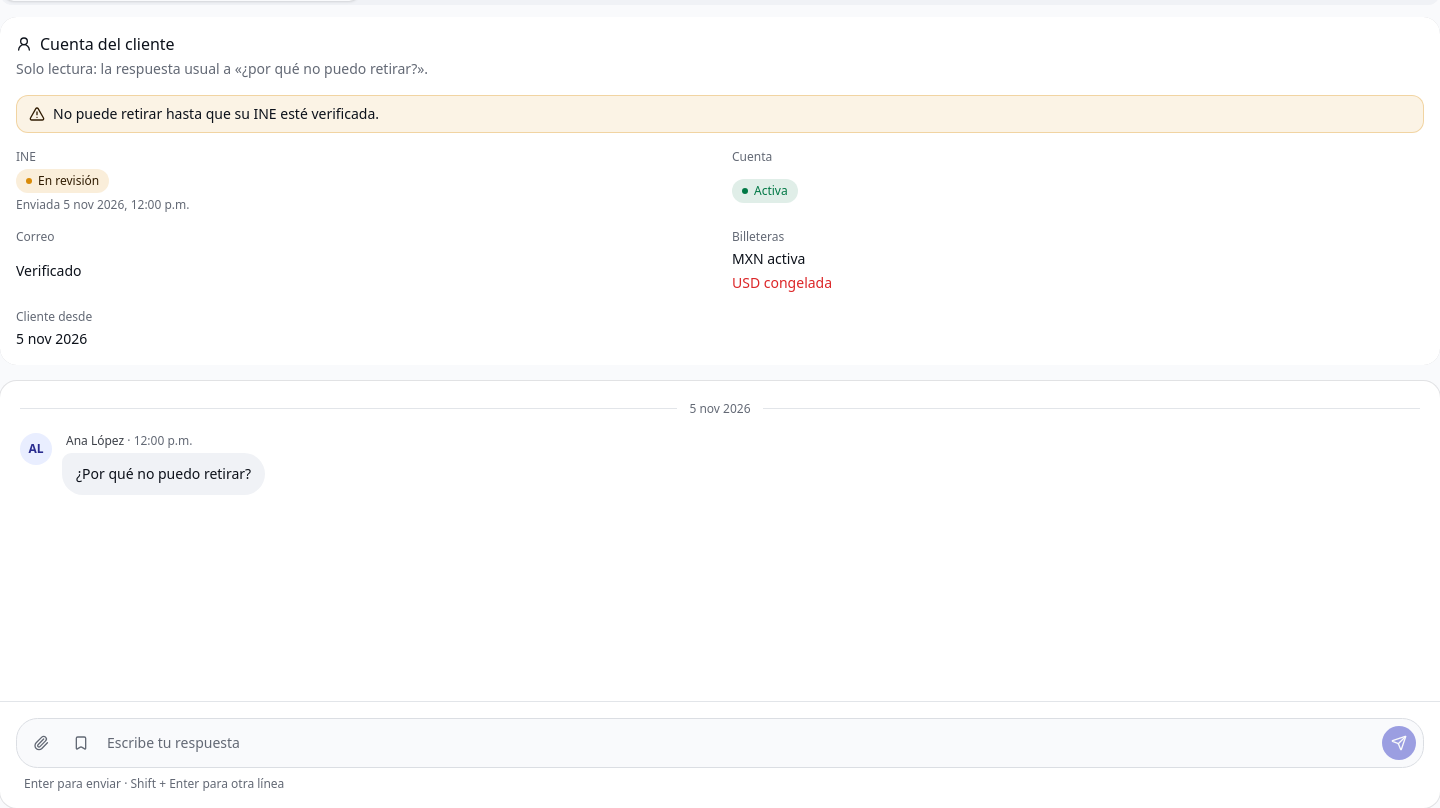
Test: saved replies › writes one in the message, where it can still be changed
(page scrolled)
Step 1. Click the button named "Respuestas guardadas" → [81, 742], box [63,724,99,760]
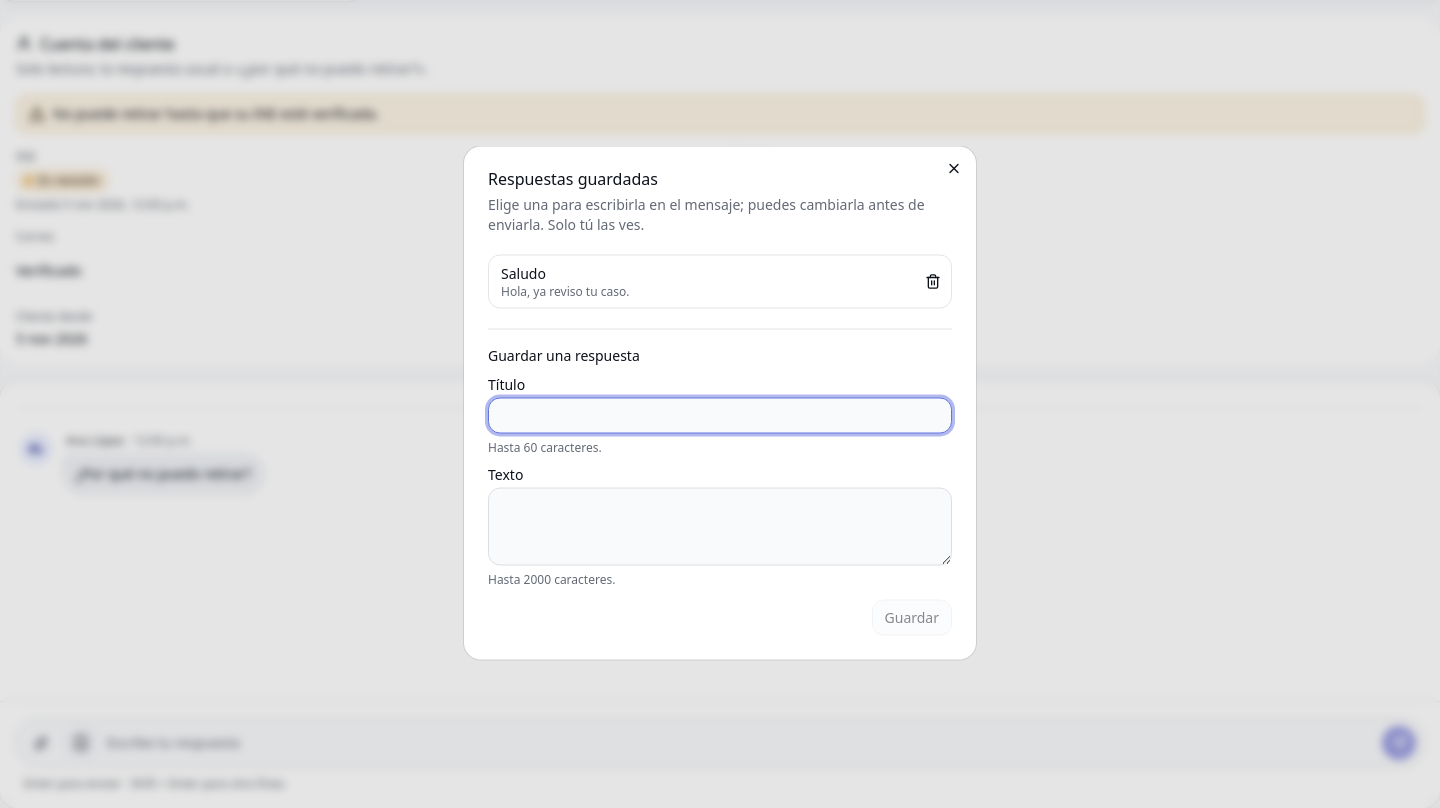
Step 2. Click the button with aria-label "Usar la respuesta Saludo" → [523, 273], box [489,256,915,308]
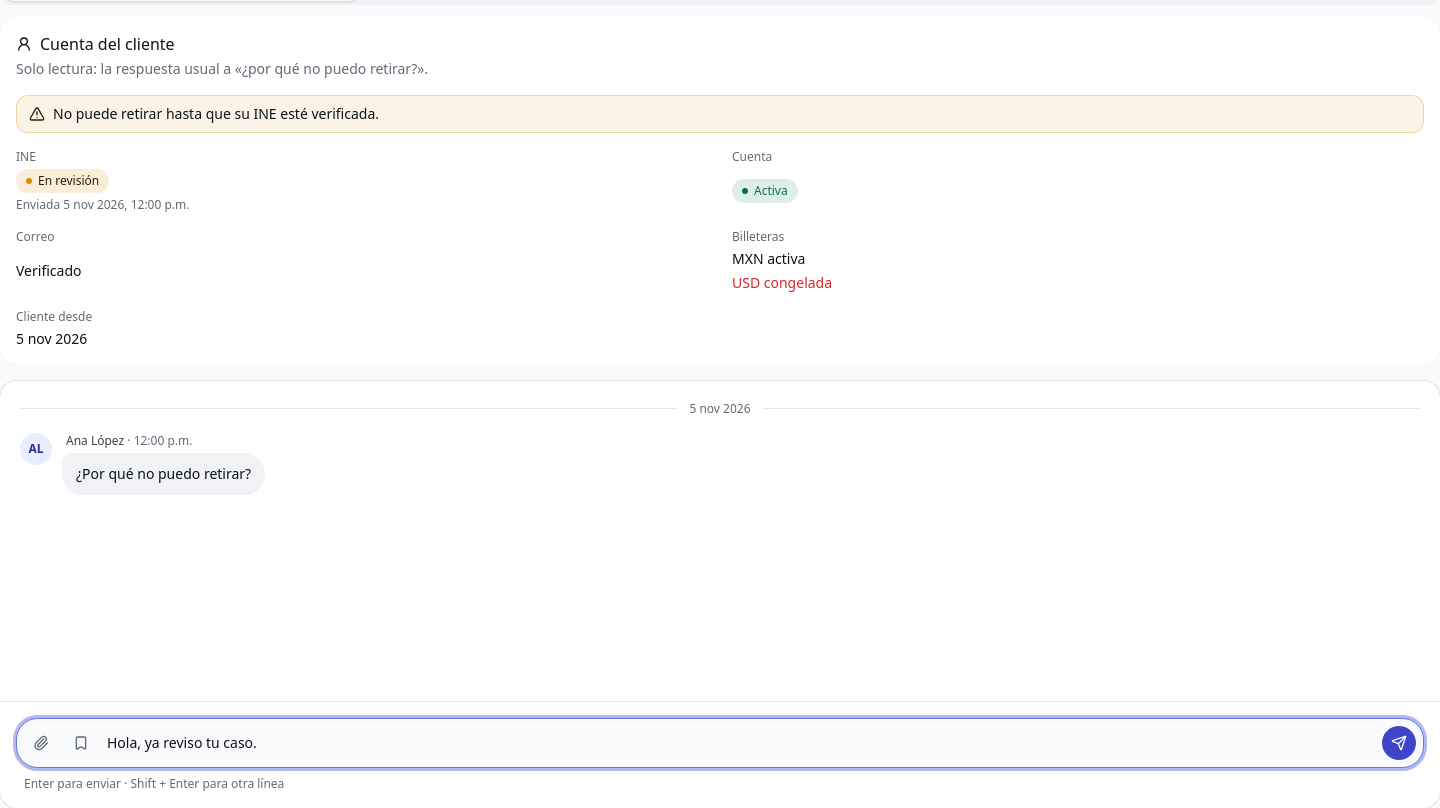
Check: the text box named "Mensaje" holds "Hola, ya reviso tu caso.", box [103,724,1377,760]
